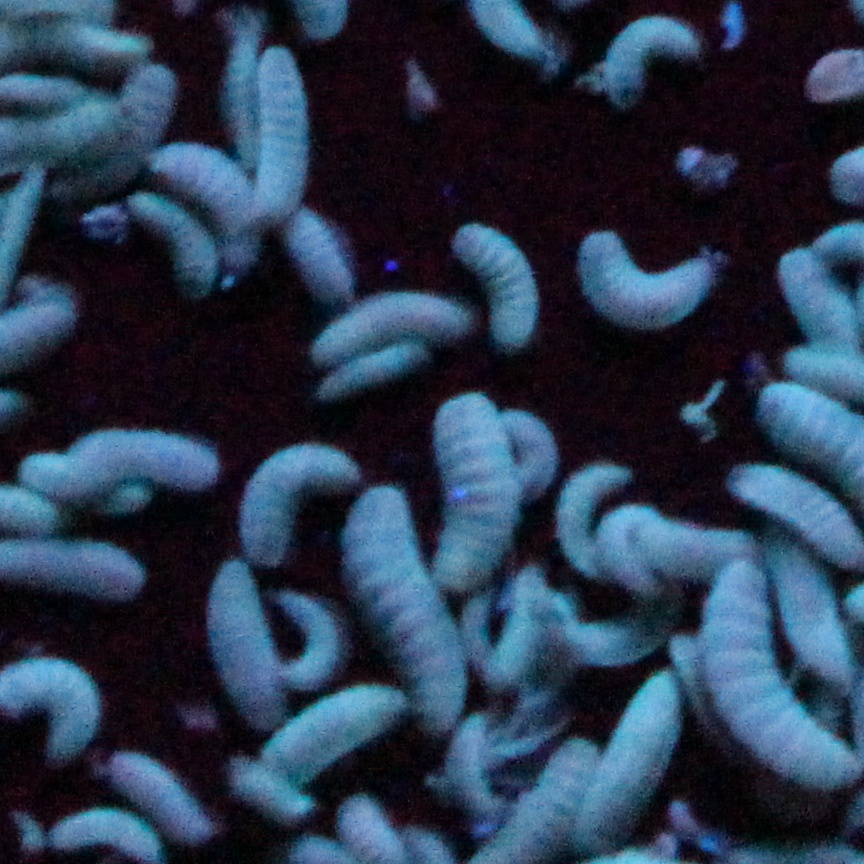larve: (369, 486, 445, 737), (723, 581, 811, 773), (596, 678, 669, 846), (168, 146, 259, 262), (588, 239, 708, 322), (221, 571, 284, 721), (440, 403, 496, 568), (269, 693, 396, 764), (465, 227, 537, 344), (3, 665, 94, 755), (257, 437, 335, 542), (257, 57, 311, 206), (113, 742, 211, 822), (87, 428, 214, 483), (613, 9, 687, 99), (562, 461, 615, 586), (576, 598, 676, 664), (26, 457, 140, 513), (498, 564, 550, 681), (450, 717, 511, 812), (147, 202, 210, 292), (319, 308, 458, 348), (791, 270, 862, 342), (224, 34, 265, 157), (119, 67, 168, 165), (293, 216, 353, 288), (645, 527, 750, 566), (64, 807, 167, 844), (327, 350, 412, 393), (296, 590, 332, 686), (606, 515, 650, 590), (245, 764, 308, 810), (518, 410, 550, 481), (469, 598, 496, 661)
